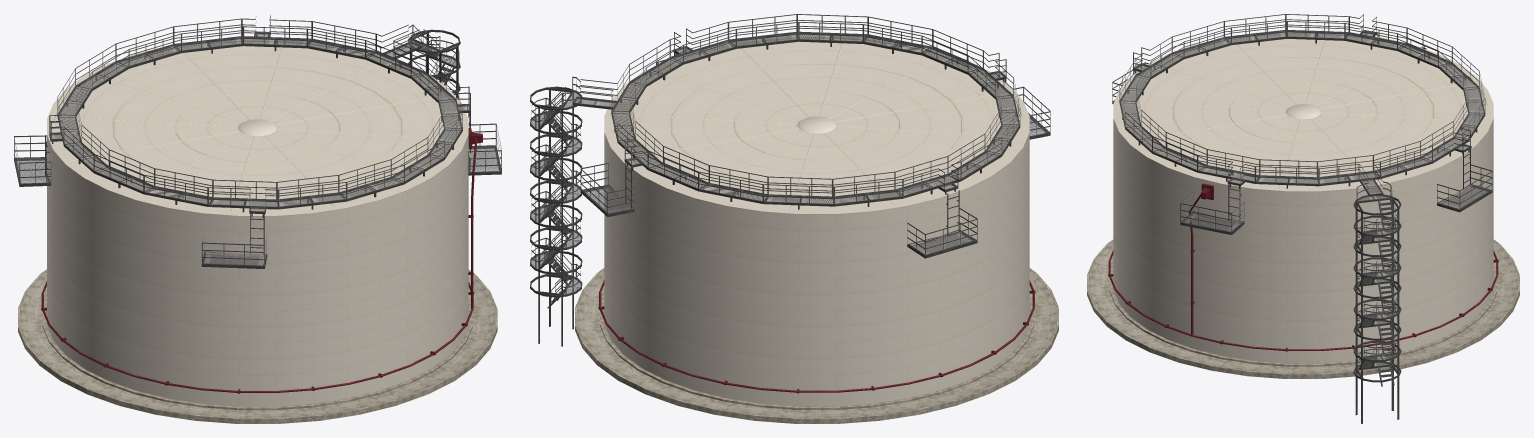
The model's file is plant-building39.glb.
3 renders of one model, left to right at view 1: azimuth 30°, elevation 25°; view 2: azimuth 150°, elevation 25°; view 3: azimuth 270°, elevation 25°, orthographic. The views are drawn at different scales.
Parts seen in each view (by area): view 1: Object8935871; view 2: Object8935871; view 3: Object8935871.
Part boxes in pixels (left/top/right/bottom): Object8935871: left=14, top=15, right=501, bottom=423; Object8935871: left=530, top=14, right=1058, bottom=423; Object8935871: left=1087, top=14, right=1519, bottom=423.
Size of the model in its own units: 28.01 by 15.31 by 26.
Materials: 1 (1 with a texture image).
